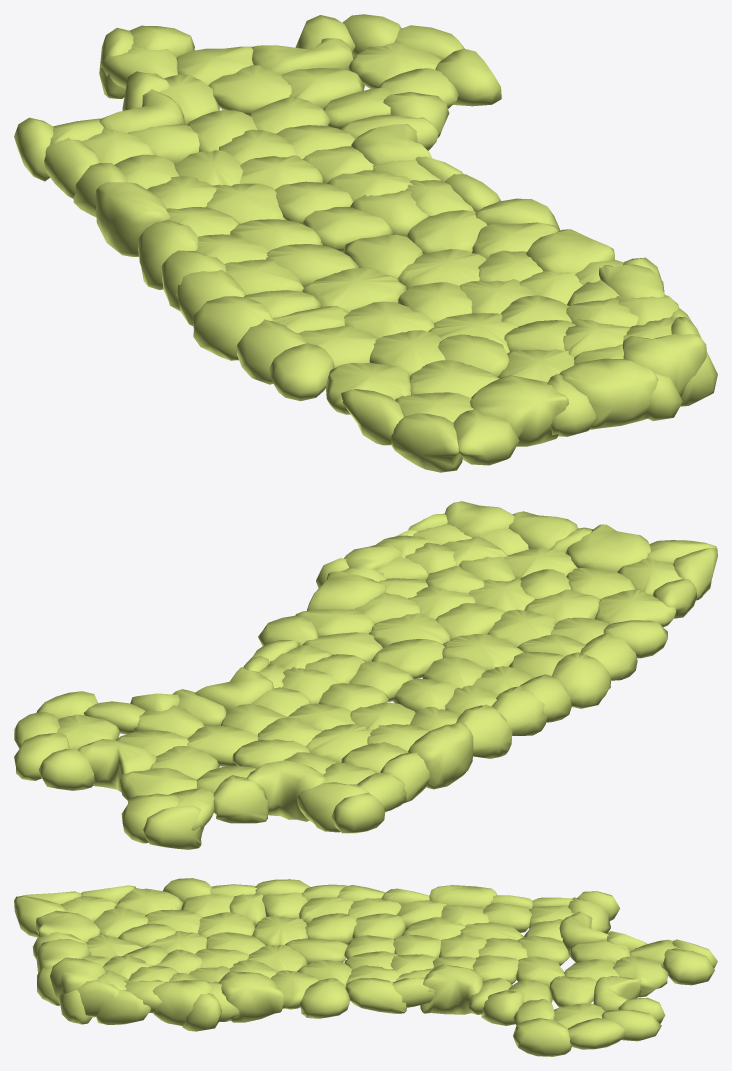
The model's file is Islands3.005_fog.fbx.
3 renders of one model, top to bottom at view 1: azimuth 30°, elevation 25°; view 2: azimuth 150°, elevation 25°; view 3: azimuth 270°, elevation 25°, orthographic. The views are drawn at different scales.
Visible parts, largest first — view 1: Island3.005_fog_cell.097, Island3.005_fog_cell.013, Island3.005_fog_cell.036, Island3.005_fog_cell.073, Island3.005_fog_cell.087, Island3.005_fog_cell.032, Island3.005_fog_cell.026, Island3.005_fog_cell.084, Island3.005_fog_cell.091, Island3.005_fog_cell.025, Island3.005_fog_cell.006, Island3.005_fog_cell.043 (+81 smaller); view 2: Island3.005_fog_cell.036, Island3.005_fog_cell.077, Island3.005_fog_cell.013, Island3.005_fog_cell.088, Island3.005_fog_cell.073, Island3.005_fog_cell.067, Island3.005_fog_cell.055, Island3.005_fog_cell.043, Island3.005_fog_cell.006, Island3.005_fog_cell.057, Island3.005_fog_cell.026, Island3.005_fog_cell.003 (+79 smaller); view 3: Island3.005_fog_cell.043, Island3.005_fog_cell.048, Island3.005_fog_cell.038, Island3.005_fog_cell.018, Island3.005_fog_cell.086, Island3.005_fog_cell.090, Island3.005_fog_cell.030, Island3.005_fog_cell.032, Island3.005_fog_cell.017, Island3.005_fog_cell.013, Island3.005_fog_cell.075, Island3.005_fog_cell.009 (+85 smaller).
Part boxes in pixels (x1=…): Island3.005_fog_cell.097: x1=559, y1=358, x2=658, y2=429; Island3.005_fog_cell.013: x1=469, y1=375, x2=568, y2=446; Island3.005_fog_cell.036: x1=95, y1=182, x2=170, y2=256; Island3.005_fog_cell.073: x1=192, y1=296, x2=273, y2=360; Island3.005_fog_cell.087: x1=391, y1=413, x2=462, y2=472; Island3.005_fog_cell.032: x1=622, y1=334, x2=706, y2=397; Island3.005_fog_cell.026: x1=302, y1=267, x2=406, y2=312; Island3.005_fog_cell.084: x1=269, y1=343, x2=334, y2=401; Island3.005_fog_cell.091: x1=453, y1=409, x2=519, y2=465; Island3.005_fog_cell.025: x1=208, y1=65, x2=291, y2=115; Island3.005_fog_cell.006: x1=326, y1=363, x2=410, y2=414; Island3.005_fog_cell.043: x1=526, y1=229, x2=614, y2=272; Island3.005_fog_cell.036: x1=408, y1=722, x2=473, y2=789; Island3.005_fog_cell.077: x1=247, y1=760, x2=327, y2=821; Island3.005_fog_cell.013: x1=565, y1=524, x2=650, y2=572; Island3.005_fog_cell.088: x1=77, y1=739, x2=156, y2=792; Island3.005_fog_cell.073: x1=551, y1=652, x2=610, y2=708; Island3.005_fog_cell.067: x1=213, y1=775, x2=269, y2=823; Island3.005_fog_cell.055: x1=143, y1=805, x2=205, y2=849; Island3.005_fog_cell.043: x1=307, y1=571, x2=386, y2=610; Island3.005_fog_cell.006: x1=595, y1=589, x2=676, y2=627; Island3.005_fog_cell.057: x1=456, y1=704, x2=512, y2=758; Island3.005_fog_cell.026: x1=442, y1=634, x2=523, y2=670; Island3.005_fog_cell.003: x1=491, y1=686, x2=546, y2=735; Island3.005_fog_cell.043: x1=218, y1=971, x2=284, y2=1022; Island3.005_fog_cell.048: x1=420, y1=964, x2=483, y2=1014; Island3.005_fog_cell.038: x1=513, y1=1018, x2=571, y2=1056; Island3.005_fog_cell.018: x1=152, y1=980, x2=212, y2=1025; Island3.005_fog_cell.086: x1=345, y1=978, x2=406, y2=1013; Island3.005_fog_cell.090: x1=299, y1=978, x2=349, y2=1018; Island3.005_fog_cell.030: x1=663, y1=948, x2=714, y2=985; Island3.005_fog_cell.032: x1=50, y1=957, x2=105, y2=1004; Island3.005_fog_cell.017: x1=568, y1=1018, x2=624, y2=1049; Island3.005_fog_cell.013: x1=36, y1=910, x2=100, y2=942; Island3.005_fog_cell.075: x1=613, y1=956, x2=668, y2=997; Island3.005_fog_cell.009: x1=96, y1=990, x2=150, y2=1024.
Size of the model in its own units: 94.64 by 12.4 by 177.
